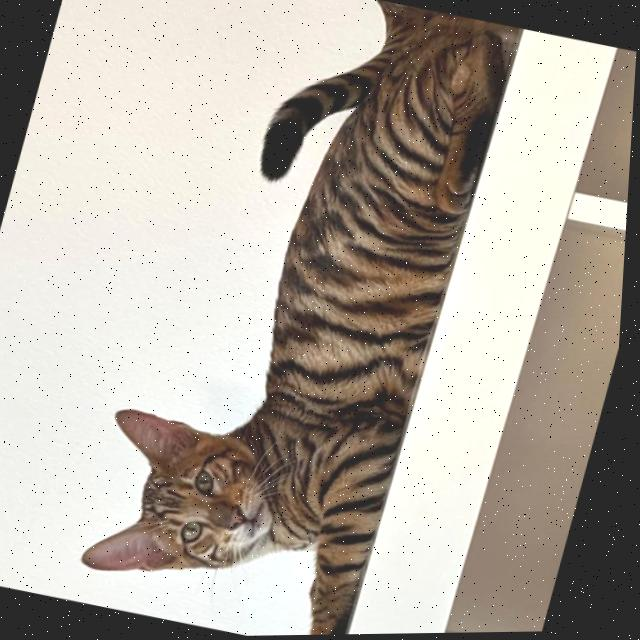Toyger: (64, 0, 531, 639)
